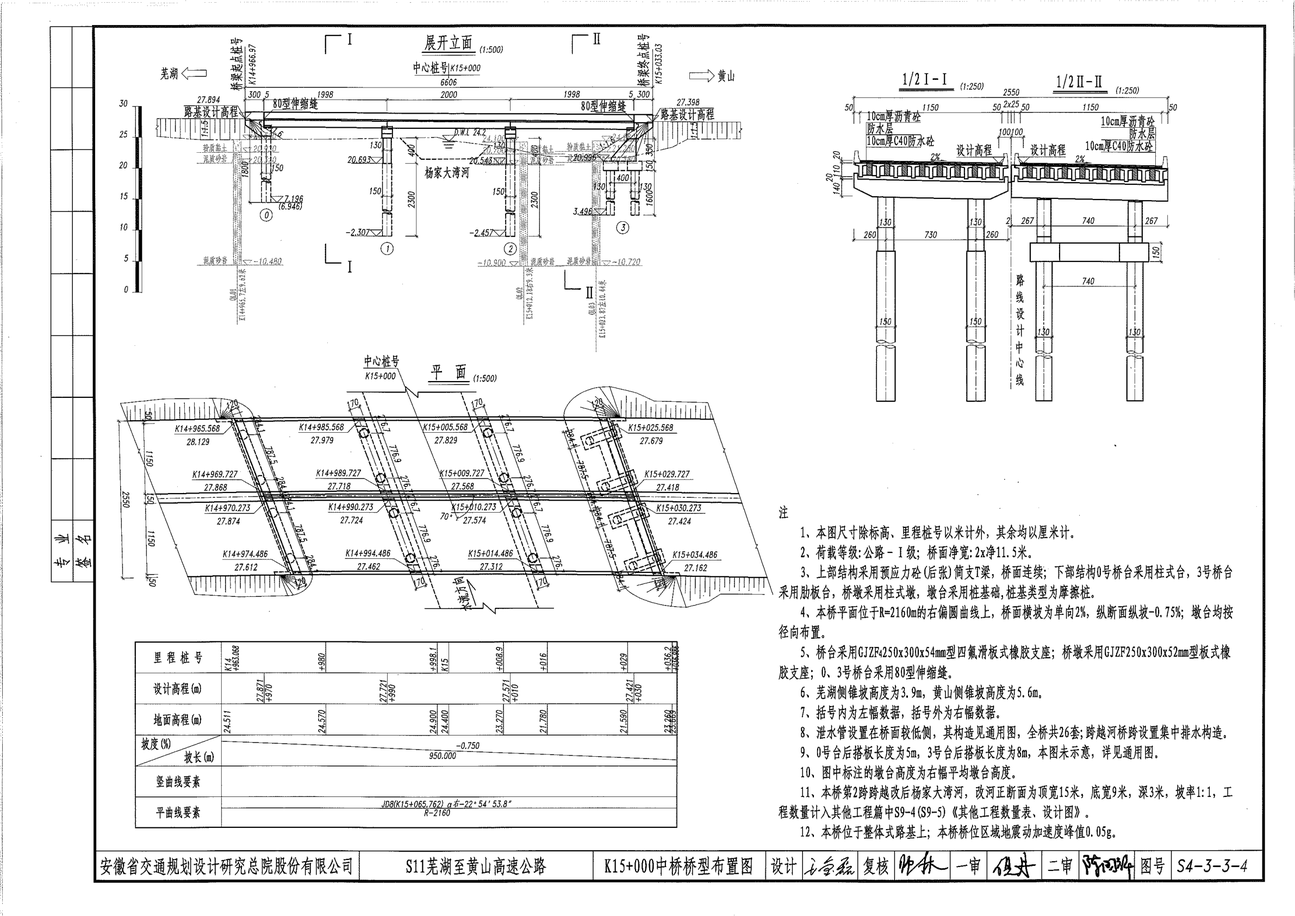A: (107, 28, 746, 311)
